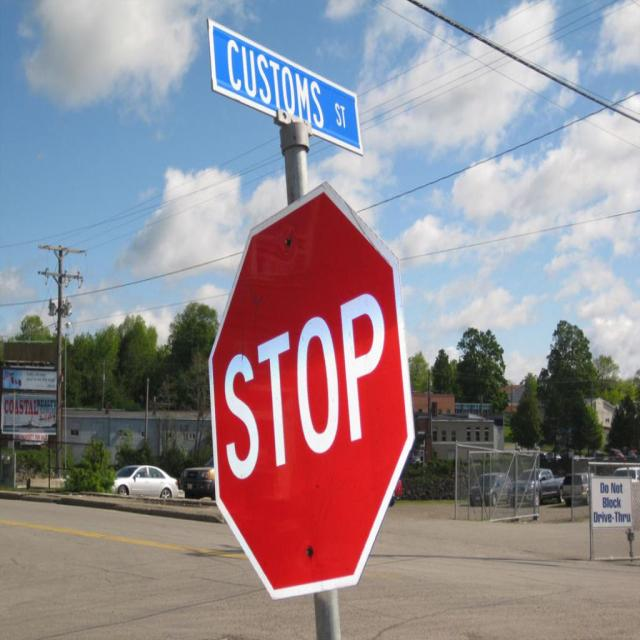Stop-sign: (207, 179, 416, 603)
